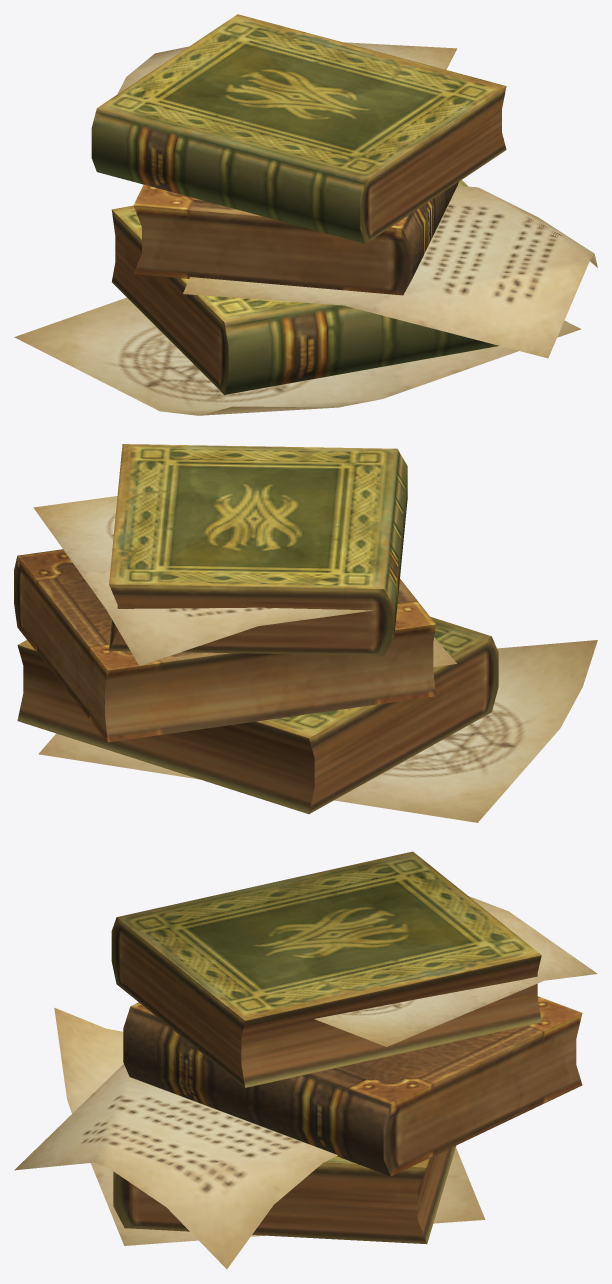
The model's file is Books_Preset_01.FBX.
3 renders of one model, top to bottom at view 1: azimuth 30°, elevation 25°; view 2: azimuth 150°, elevation 25°; view 3: azimuth 270°, elevation 25°, orthographic. The views are drawn at different scales.
Parts seen in each view (by area): view 1: Books_Preset_01; view 2: Books_Preset_01; view 3: Books_Preset_01.
Boxes of the visible parts, x1,y1,x2,y2 form: Books_Preset_01: (14,14,597,415); Books_Preset_01: (14,444,597,822); Books_Preset_01: (14,851,597,1268).
Bounding box in the file's own units: 43.29 × 41.69 × 17.02.
